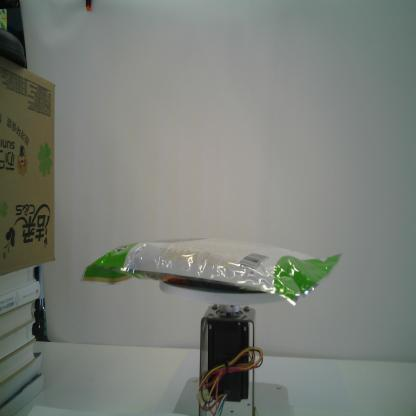Dried Food: (78, 233, 345, 309)
